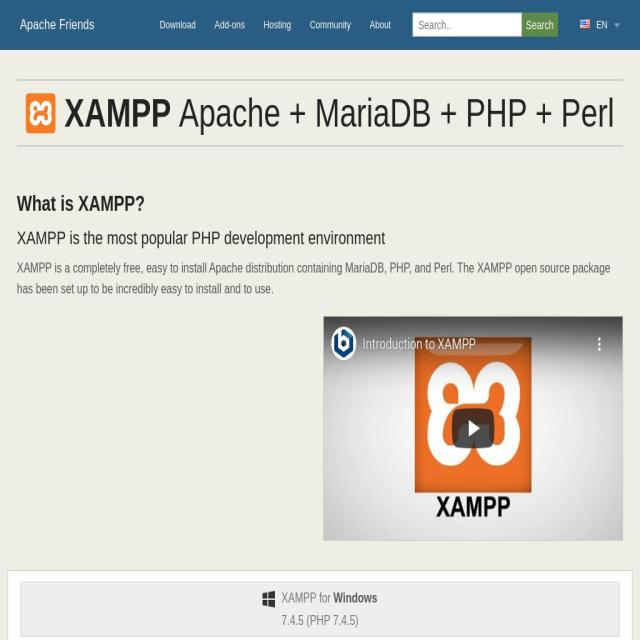button: (21, 582, 620, 638), (570, 0, 633, 50), (300, 0, 361, 50), (150, 0, 206, 50), (205, 0, 254, 50), (253, 0, 300, 50), (360, 0, 401, 50)
field: (412, 12, 522, 38), (521, 13, 558, 36)
heading: (179, 90, 615, 135), (17, 189, 623, 219), (17, 225, 623, 252), (64, 90, 178, 135), (8, 0, 108, 50), (26, 92, 56, 134)
iframe: (323, 316, 622, 540)
image: (262, 591, 276, 608), (579, 20, 590, 28)
link: (333, 591, 378, 606)
text: (17, 258, 623, 300), (28, 614, 612, 628), (282, 591, 334, 606), (594, 18, 608, 31)
